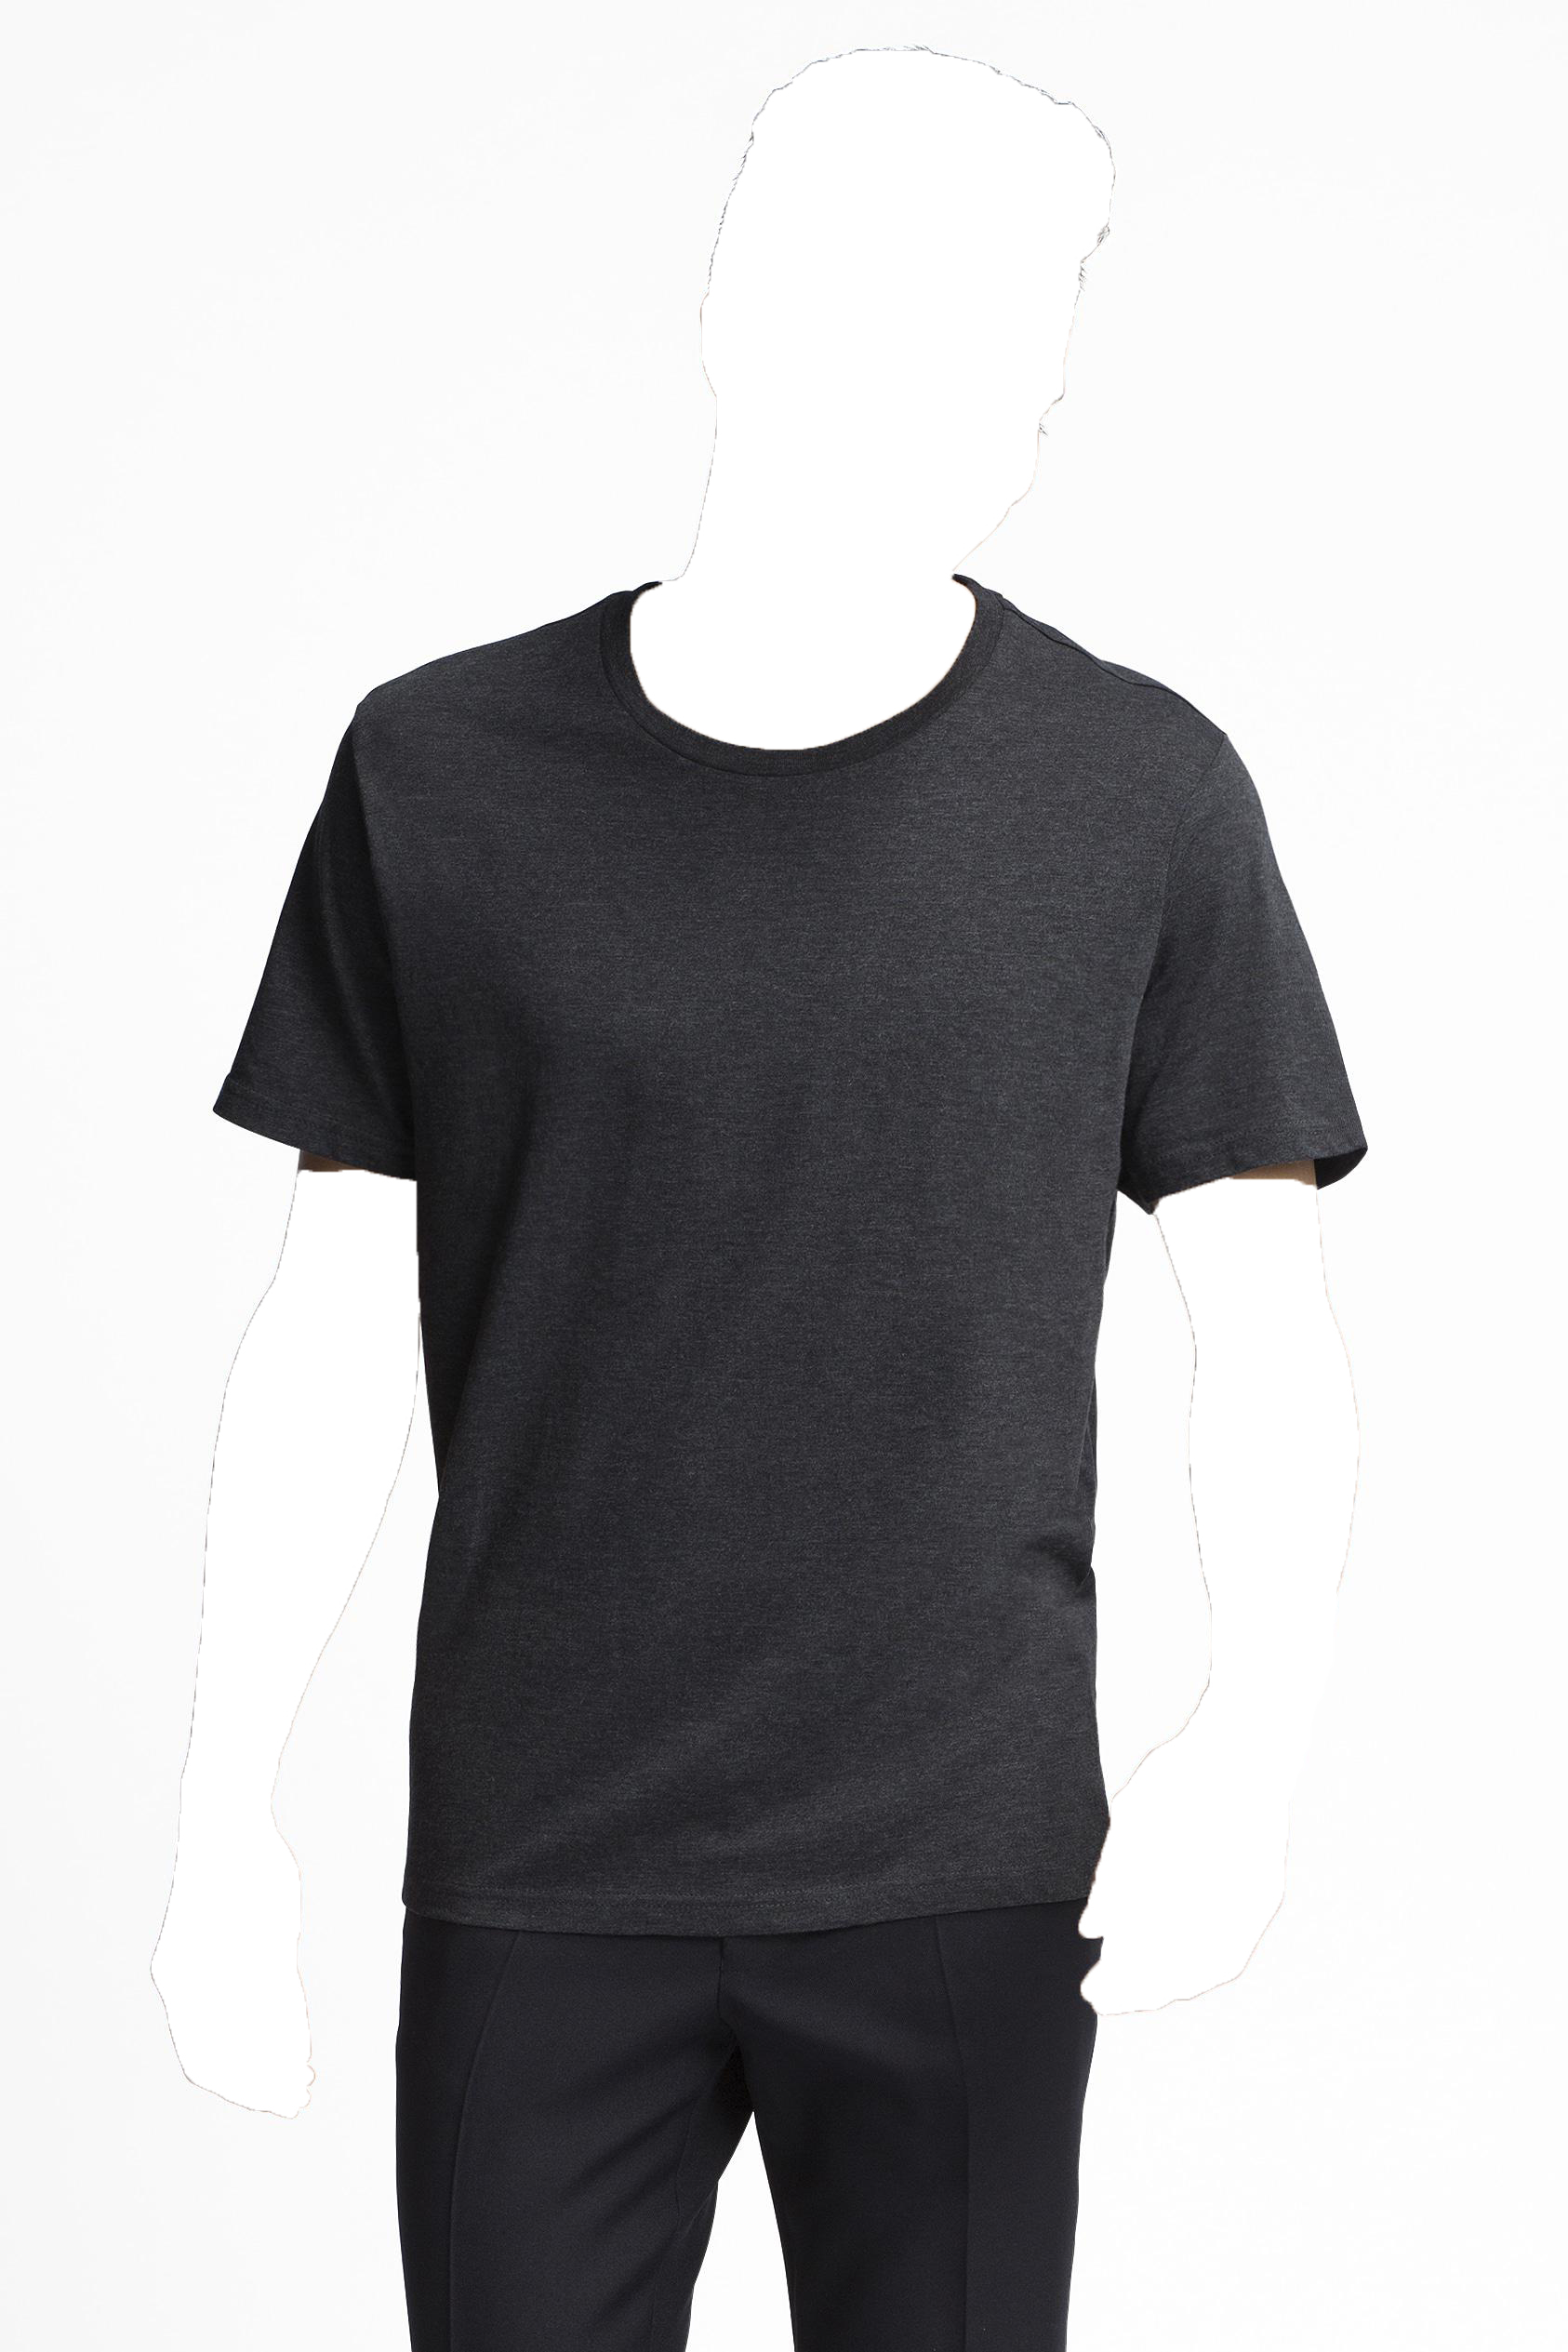teeshirt: (213, 567, 1368, 2070)
